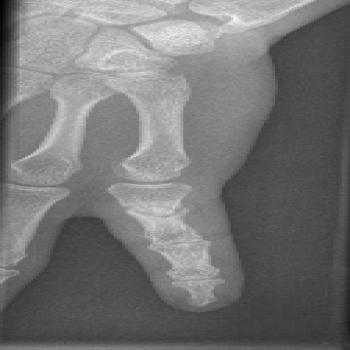Fracture: (109, 202, 217, 224)
